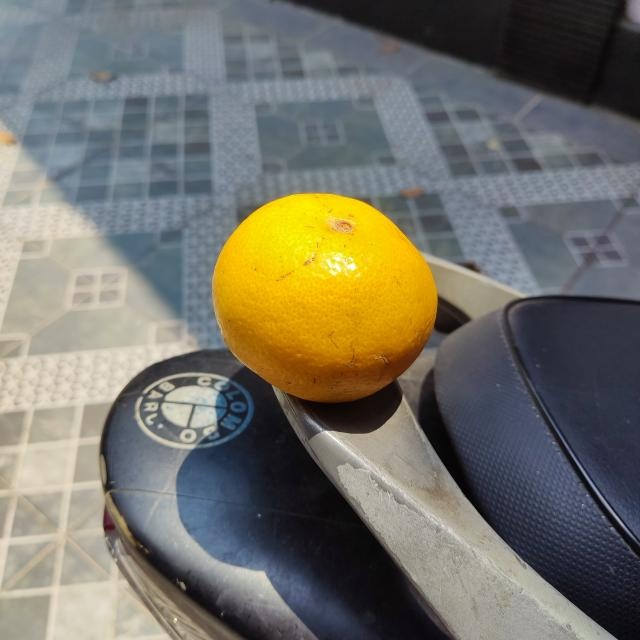agrume: (208, 192, 438, 403)
